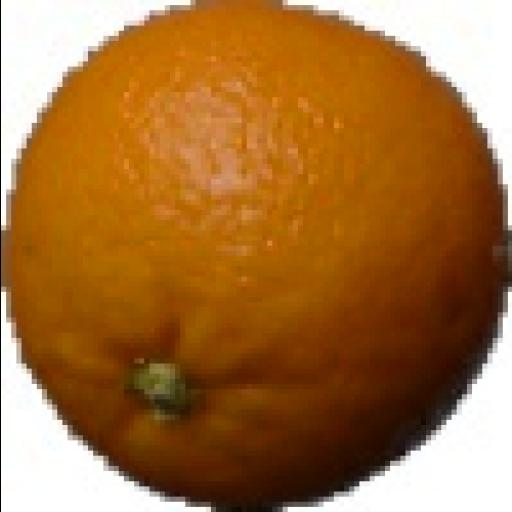orange: (12, 6, 502, 506)
